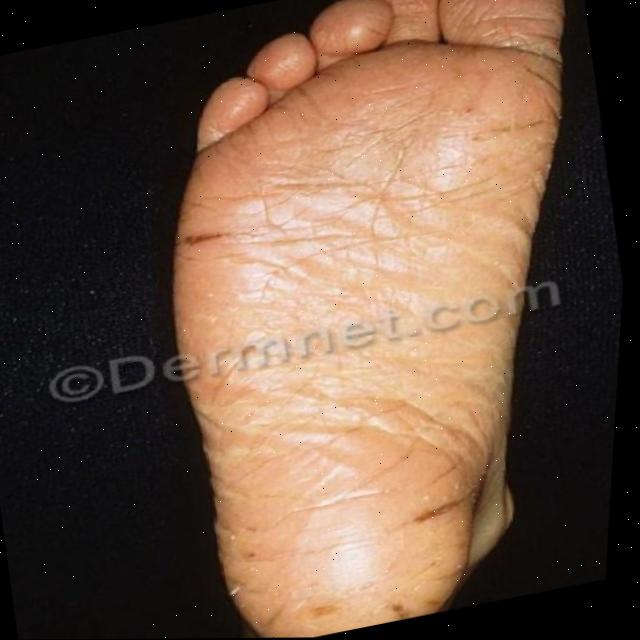Eczema: (137, 36, 548, 639)
